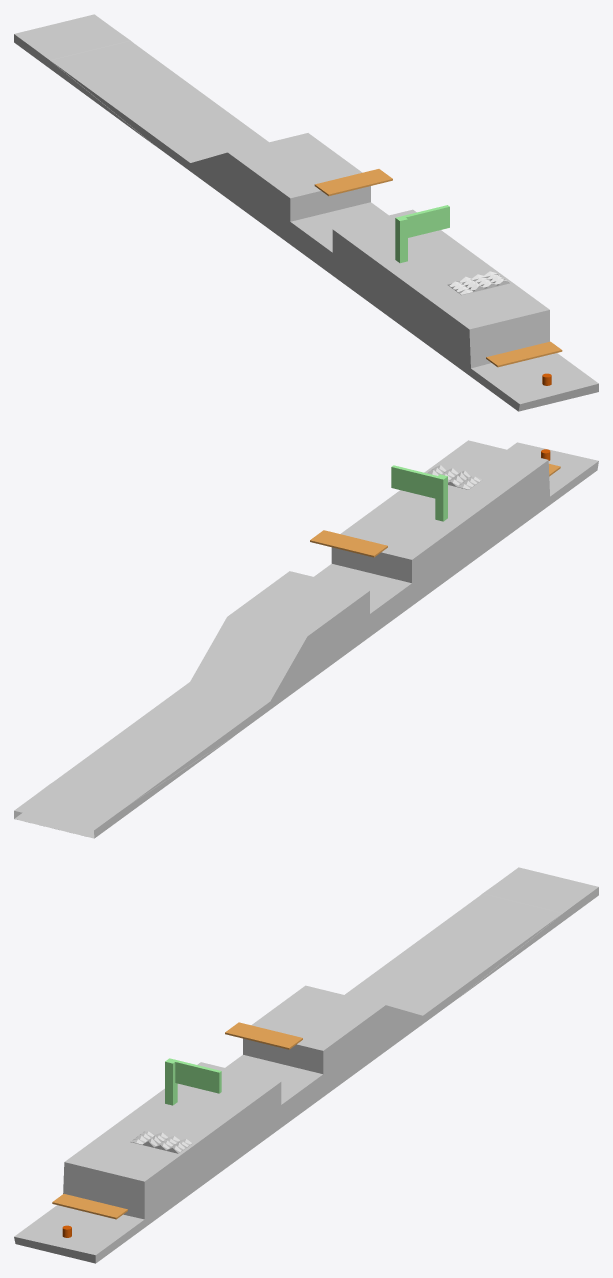
The model's file is ocean.fbx.
The picture shows the model from 3 angles, top to bottom: view 1: azimuth 30°, elevation 25°; view 2: azimuth 150°, elevation 25°; view 3: azimuth 330°, elevation 25°; orthographic projection.
Visible parts, largest first — view 1: Floor, Cube, Jump.001, Jump, trap; view 2: Floor, Cube, Jump.001, trap; view 3: Floor, Cube, Jump.001, Jump, trap.
Boxes of the visible parts, <box> form: Floor: <box>14,14,598,411</box>; Cube: <box>395,205,449,263</box>; Jump.001: <box>314,169,392,196</box>; Jump: <box>486,341,562,367</box>; trap: <box>448,271,509,295</box>; Floor: <box>14,440,598,838</box>; Cube: <box>391,465,447,521</box>; Jump.001: <box>310,530,387,557</box>; trap: <box>427,465,482,489</box>; Floor: <box>14,867,598,1263</box>; Cube: <box>165,1058,221,1105</box>; Jump.001: <box>225,1022,302,1049</box>; Jump: <box>52,1194,127,1219</box>; trap: <box>130,1131,192,1153</box>.
Size of the model in its own units: 2012 by 2101 by 21768.
